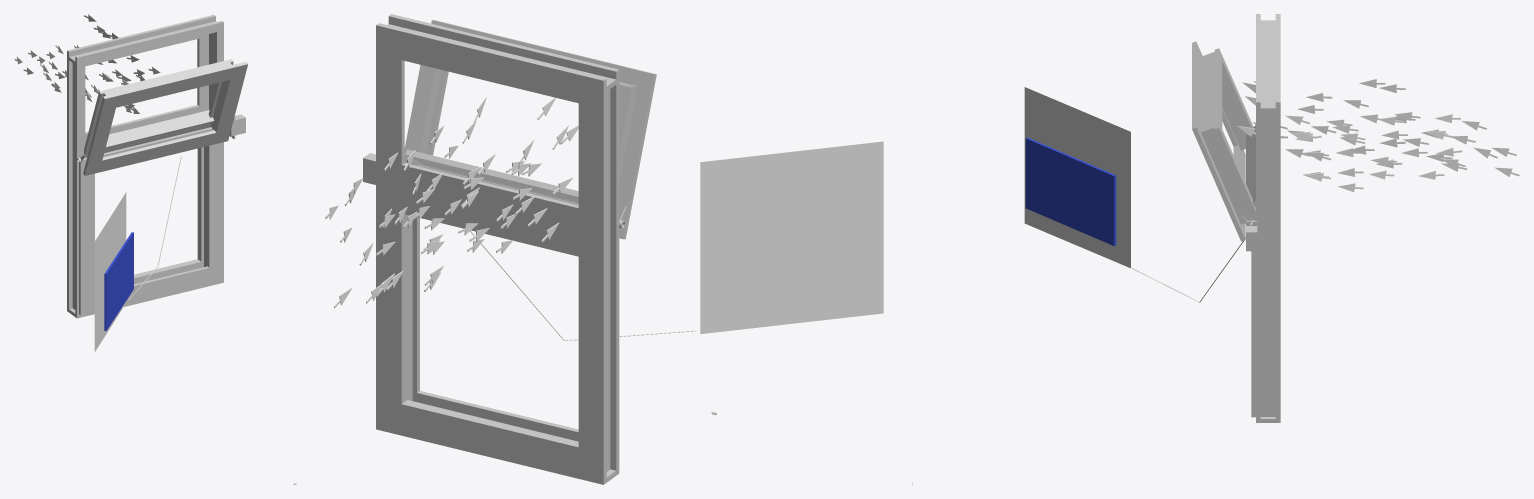
The model's file is window_winter.gltf.
3 renders of one model, left to right at view 1: azimuth 30°, elevation 25°; view 2: azimuth 150°, elevation 25°; view 3: azimuth 270°, elevation 25°, orthographic. The views are drawn at different scales.
Visible parts, largest first — view 1: Mesh1.003, Plane.003, Cube, winter_02, winter_01; view 2: Mesh1.003, Plane.003, winter_01, winter_02; view 3: Mesh1.003, Plane.003, Cube, winter_01, winter_02.
Part boxes in pixels (<box>): Mesh1.003: <box>67,15,247,318</box>; Plane.003: <box>94,192,126,351</box>; Cube: <box>104,232,133,330</box>; winter_02: <box>40,14,160,110</box>; winter_01: <box>14,50,140,113</box>; Mesh1.003: <box>363,14,656,484</box>; Plane.003: <box>700,141,883,334</box>; winter_01: <box>334,161,573,308</box>; winter_02: <box>325,96,578,230</box>; Mesh1.003: <box>1192,14,1280,422</box>; Plane.003: <box>1024,87,1130,268</box>; Cube: <box>1025,137,1116,246</box>; winter_01: <box>1280,116,1519,191</box>; winter_02: <box>1238,79,1462,157</box>.
Size of the model in its own units: 1.82 by 2.48 by 3.23.
